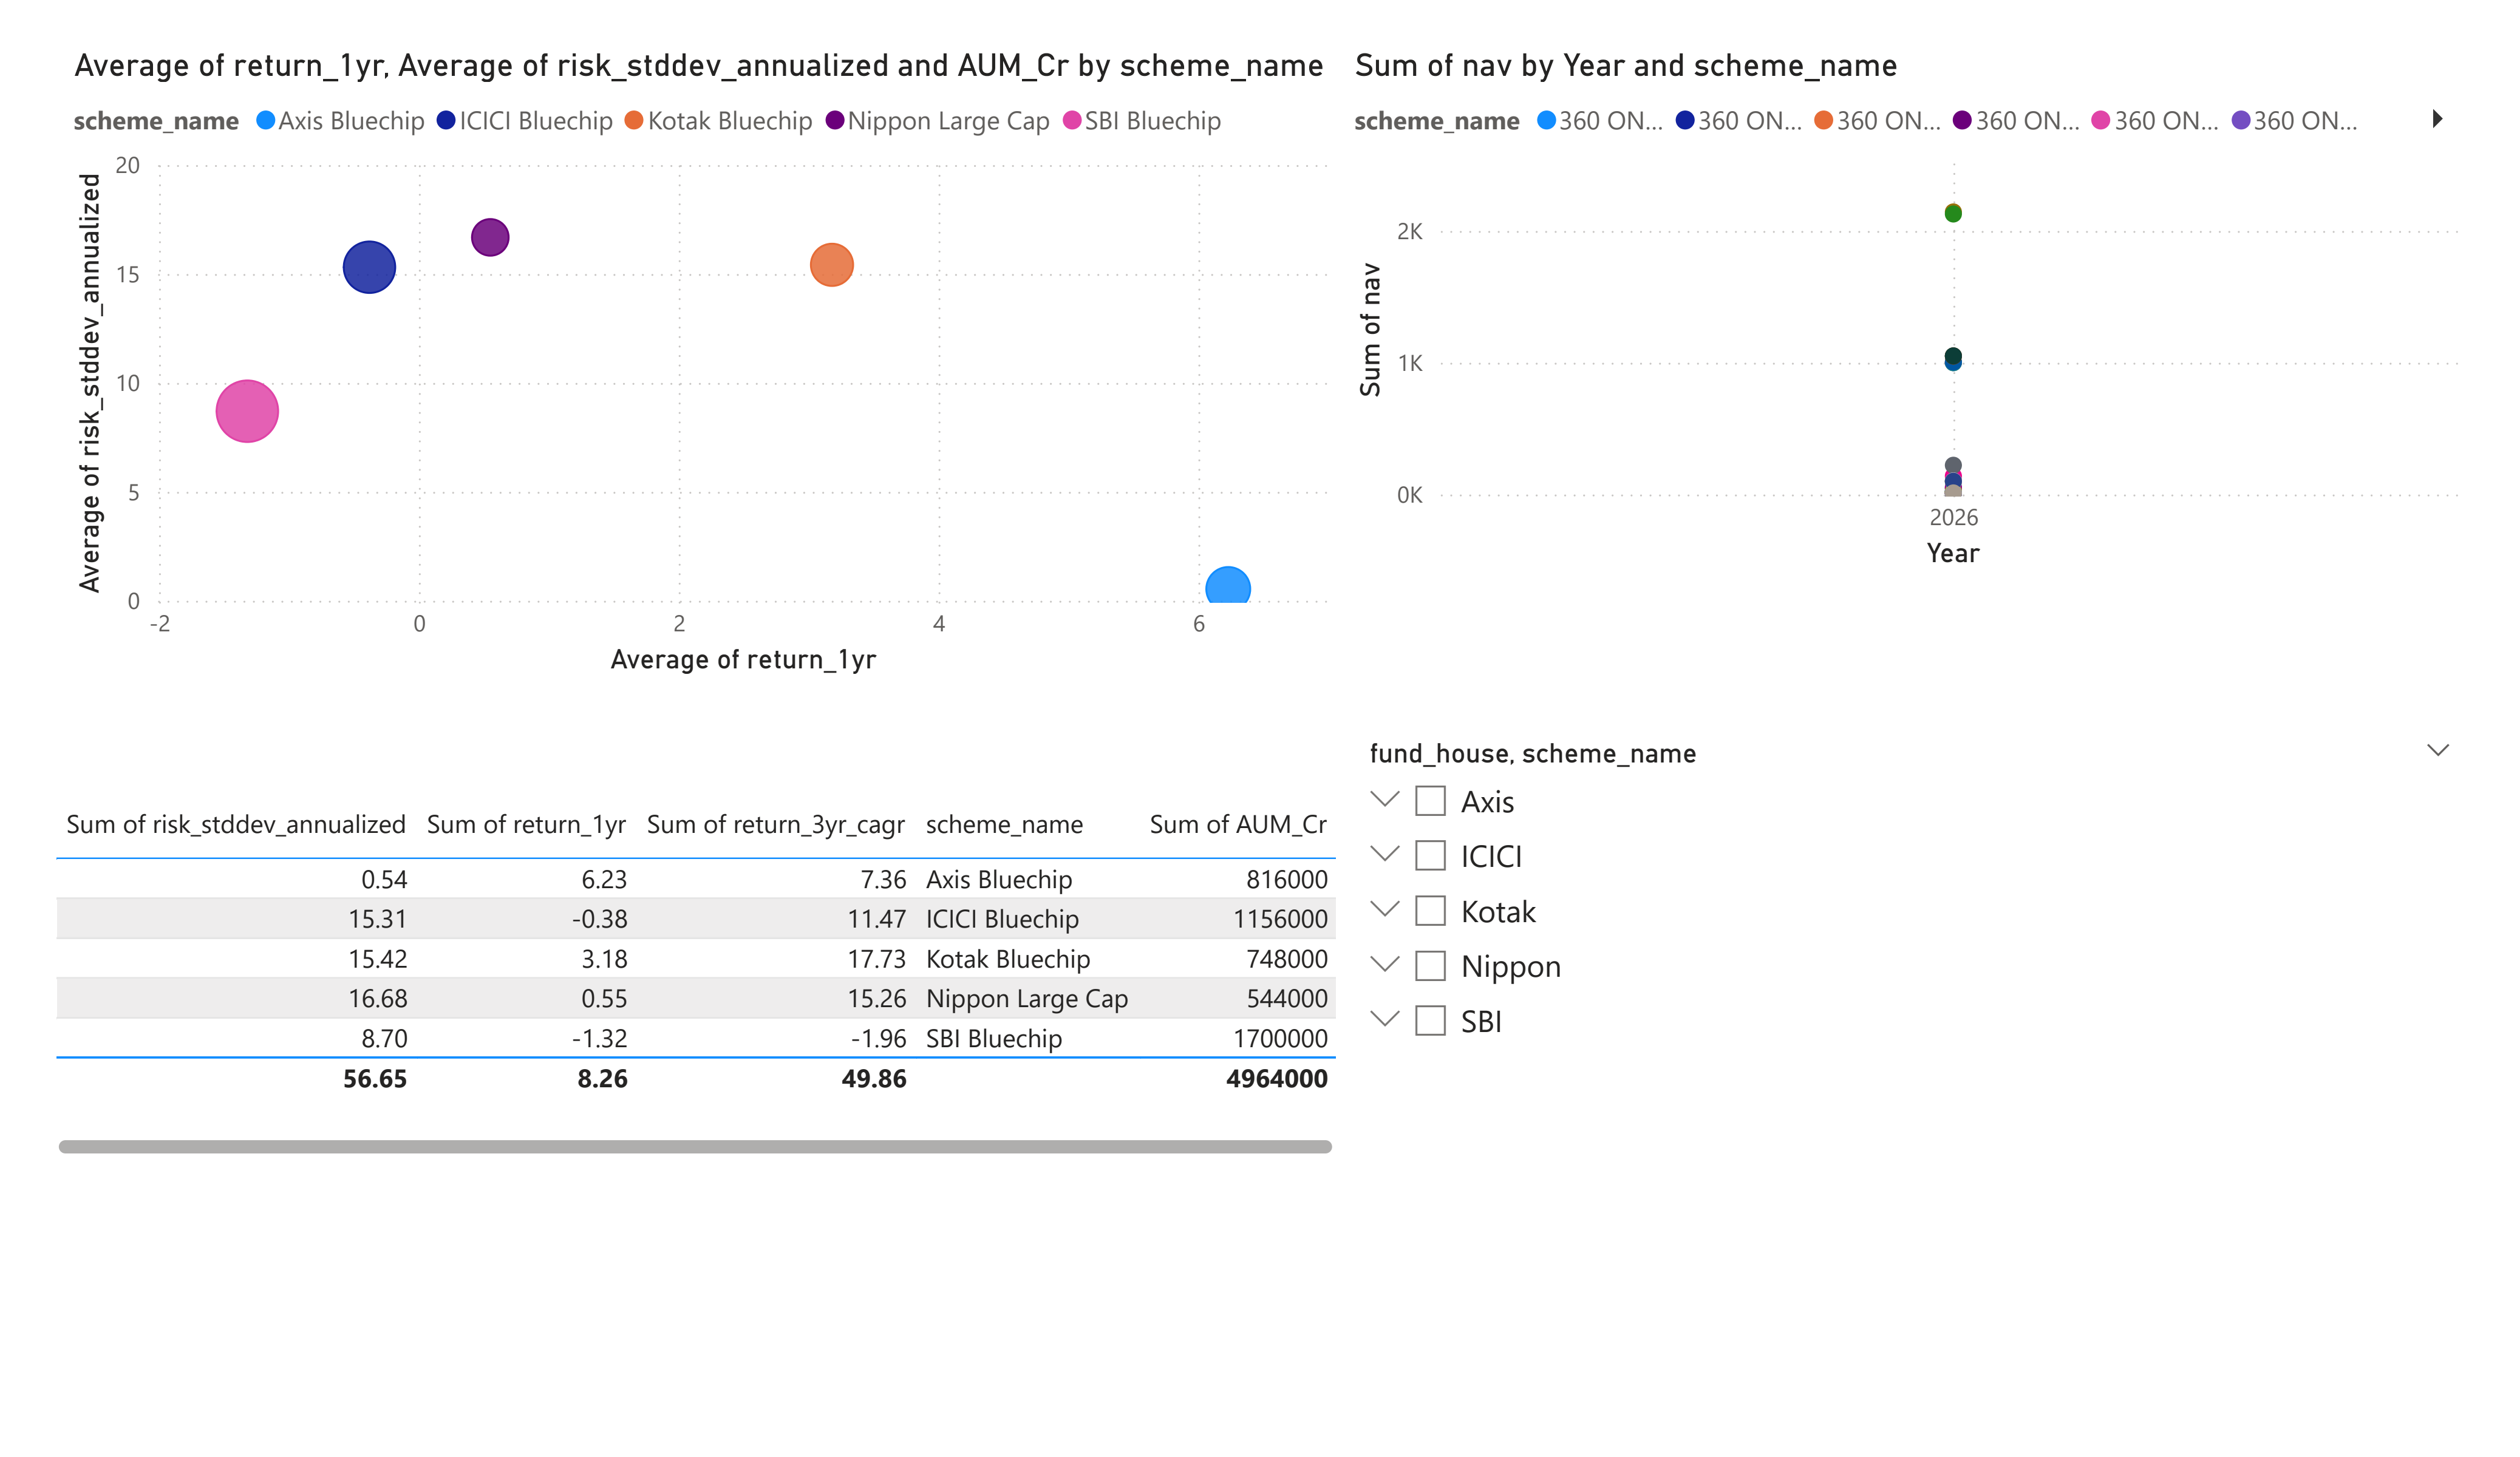

This screenshot's page, from the dashboard's own definition file:
{"tool":"powerbi","page":{"name":"Fund Performance","canvas":[1280,720],"ordinal":1},"visuals":[{"type":"scatterChart","fields":{"X":["Sum(fund_scorecard_powerbi.return_1yr)"],"Y":["Sum(fund_scorecard_powerbi.risk_stddev_annualized)"],"Series":["fund_scorecard_powerbi.scheme_name"],"Size":["Sum(fund_scorecard_powerbi.AUM_Cr)"]},"box":[9.6,0,675.1,336.2],"z":0},{"type":"tableEx","fields":{"Values":["Sum(fund_scorecard_powerbi.risk_stddev_annualized)","Sum(fund_scorecard_powerbi.return_1yr)","Sum(fund_scorecard_powerbi.return_3yr_cagr)","fund_scorecard_powerbi.scheme_name","Sum(fund_scorecard_powerbi.AUM_Cr)"]},"box":[0,395.2,684.7,194.9],"z":1000},{"type":"lineChart","fields":{"Category":["nav_history_clean.date.Variation.Date Hierarchy.Year","nav_history_clean.date.Variation.Date Hierarchy.Quarter","nav_history_clean.date.Variation.Date Hierarchy.Month","nav_history_clean.date.Variation.Date Hierarchy.Day"],"Y":["Sum(nav_history_clean.nav)"],"Series":["nav_history_clean.scheme_name"]},"box":[684.7,0,595.5,279.9],"z":2000},{"type":"slicer","fields":{"Values":["fund_scorecard_powerbi.fund_house","fund_scorecard_powerbi.scheme_name"]},"box":[684.7,359.5,595.5,360.9],"z":3000}]}

Visuals, with their boxes on the page's 1280x720 design canvas (x1, y1, x2, y2). These are canvas units, not pixel positions in the 2520x1457 screenshot, which may show the page scaled, cropped or inside an application window:
scatterChart - Sum(fund_scorecard_powerbi.return_1yr) x Sum(fund_scorecard_powerbi.risk_stddev_annualized): 10,0,685,336
tableEx - Sum(fund_scorecard_powerbi.risk_stddev_annualized) x Sum(fund_scorecard_powerbi.return_1yr): 0,395,685,590
lineChart - nav_history_clean.date.Variation.Date Hierarchy.Year x nav_history_clean.date.Variation.Date Hierarchy.Quarter: 685,0,1280,280
slicer - fund_scorecard_powerbi.fund_house x fund_scorecard_powerbi.scheme_name: 685,360,1280,720
